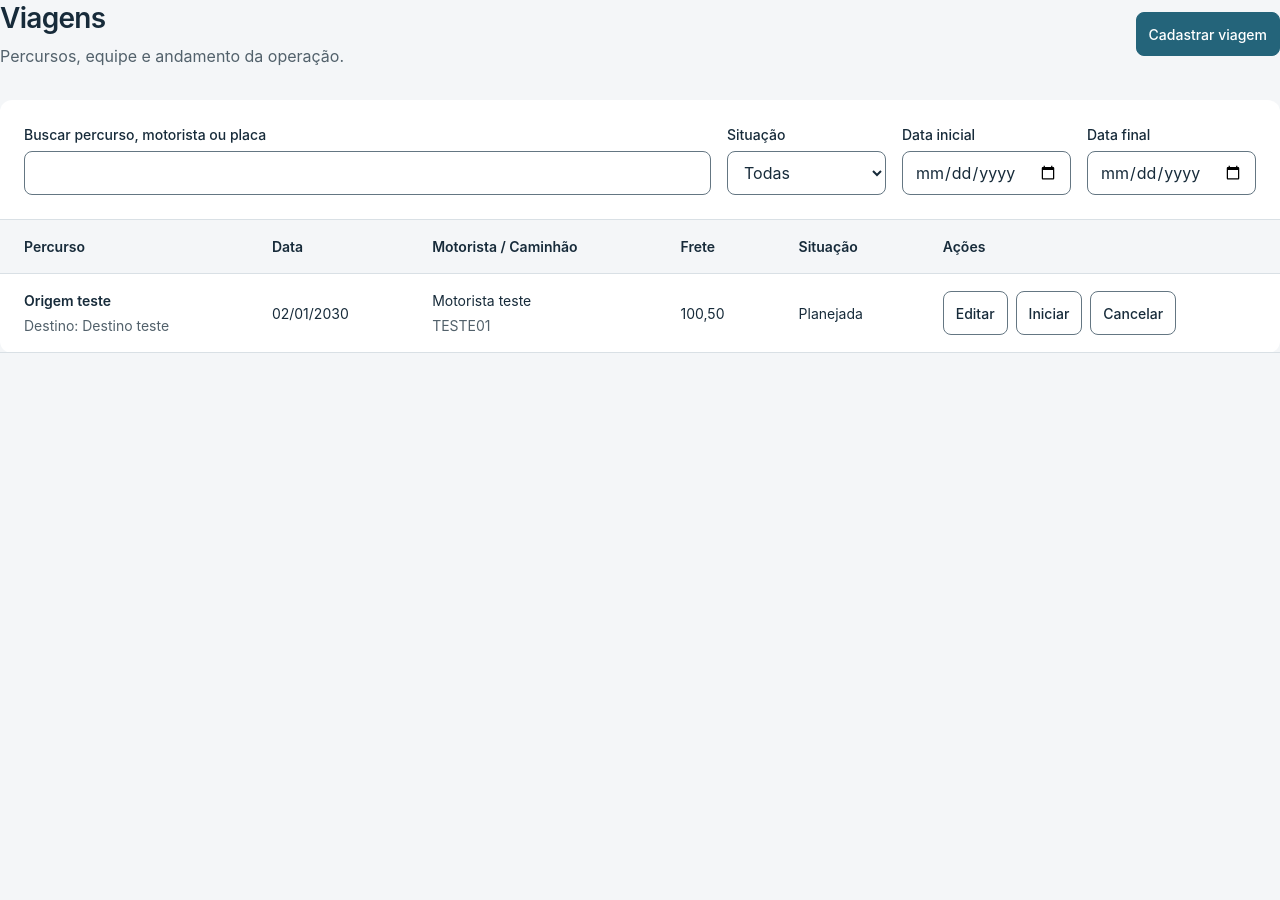
Scenario: exige confirmacao para iniciar e permite desistir antes do envio
This screenshot has width=1280, height=900.
Click the button with aria-label "Iniciar viagem Origem teste": coordinates (1049, 313) top-left (1016, 291), bottom-right (1082, 335)
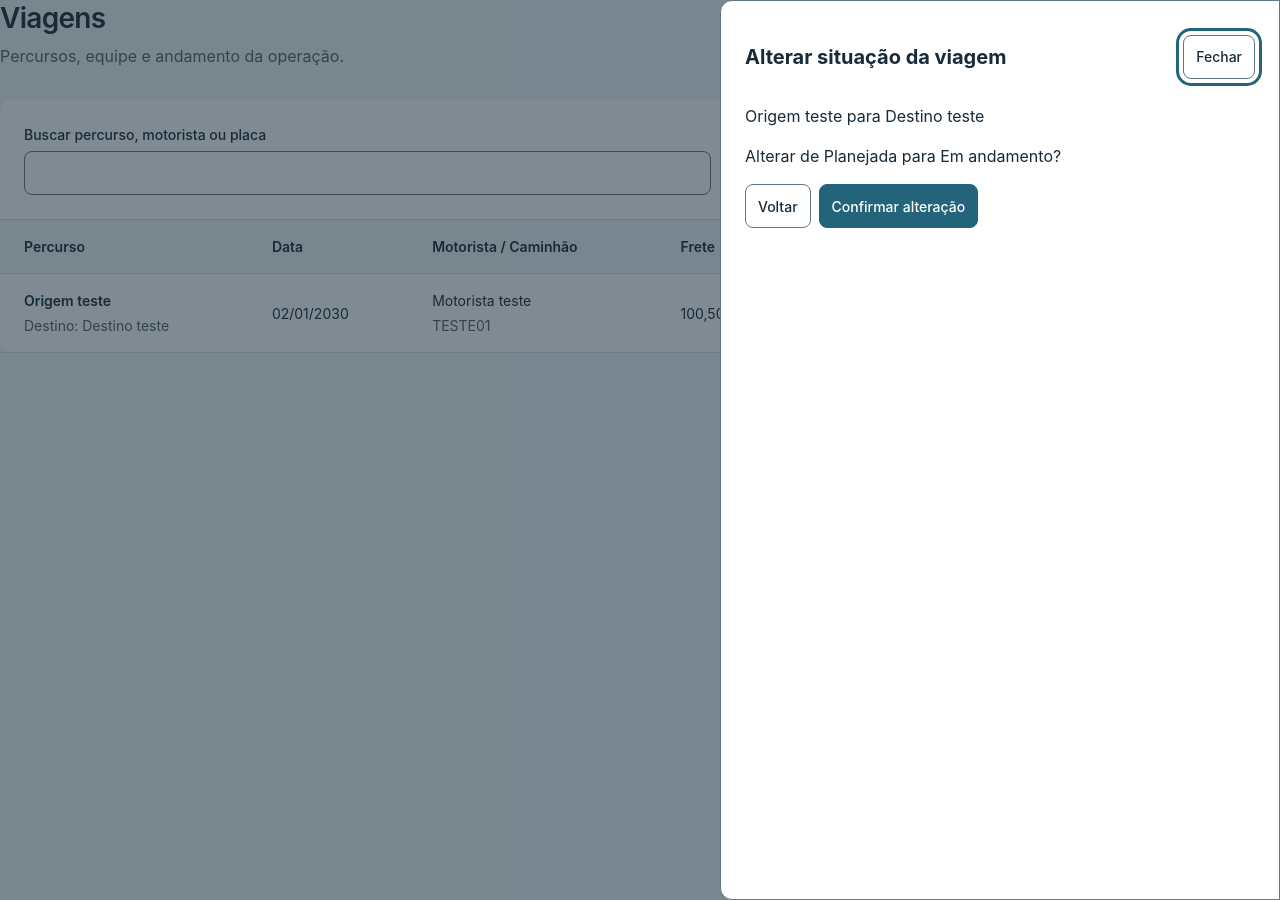
Click the button "Voltar": coordinates (778, 206) top-left (745, 184), bottom-right (811, 228)
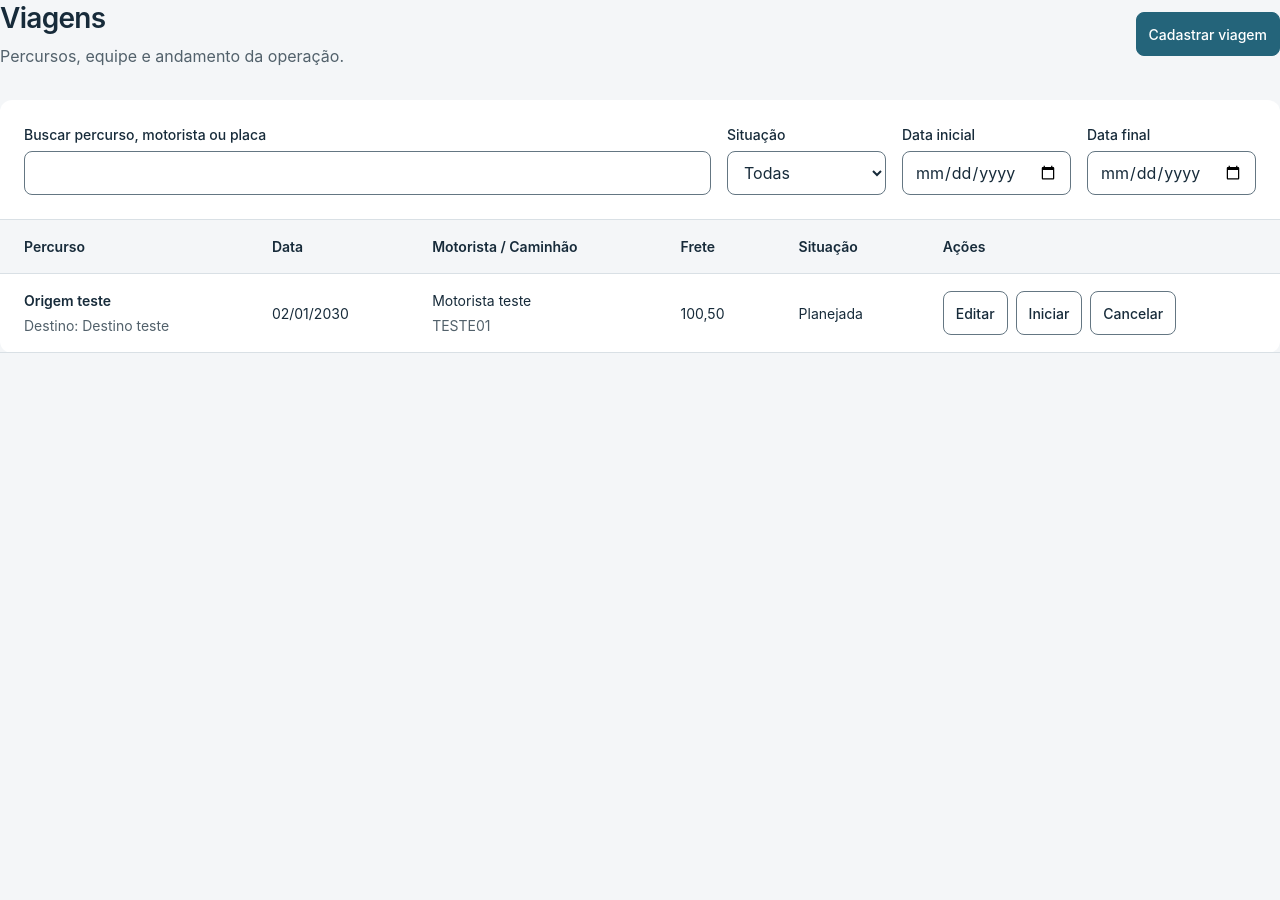
Result: the dialog is gone
Click the button with aria-label "Iniciar viagem Origem teste": coordinates (1049, 313) top-left (1016, 291), bottom-right (1082, 335)
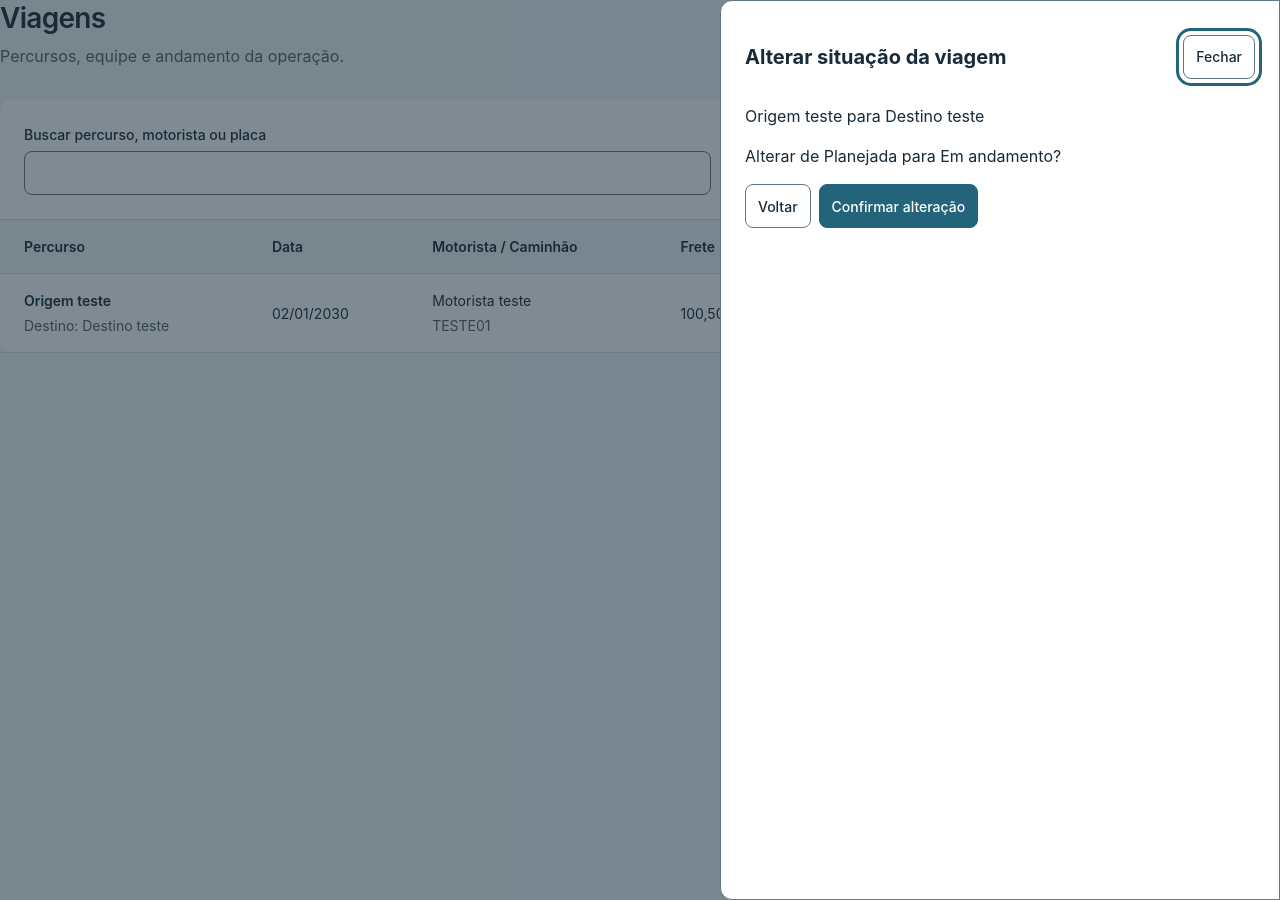
Click the button "Confirmar alteração": coordinates (898, 206) top-left (819, 184), bottom-right (978, 228)
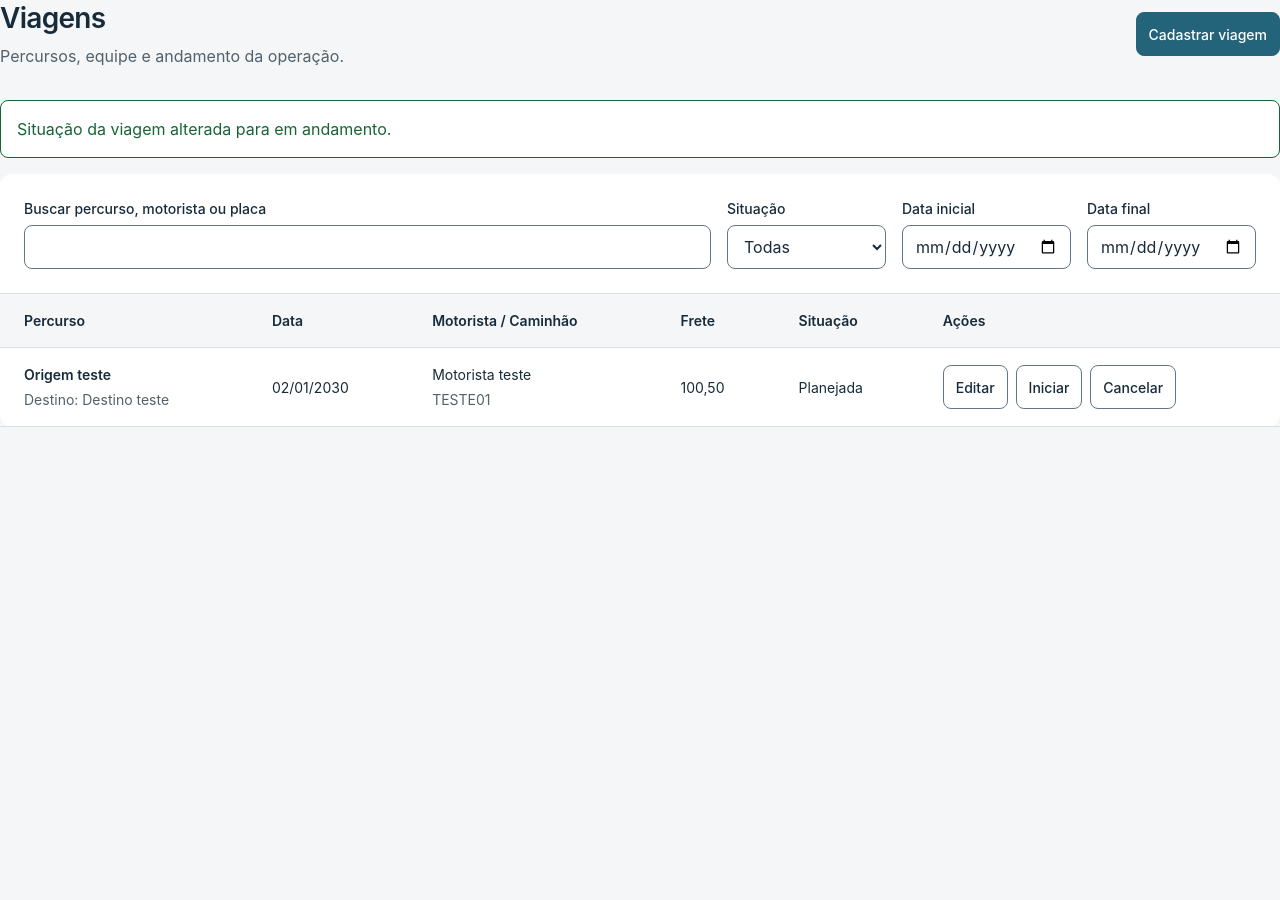
Result: the text "Situação da viagem alterada para em andamento." is shown at top-left (0, 100), bottom-right (1279, 158)
